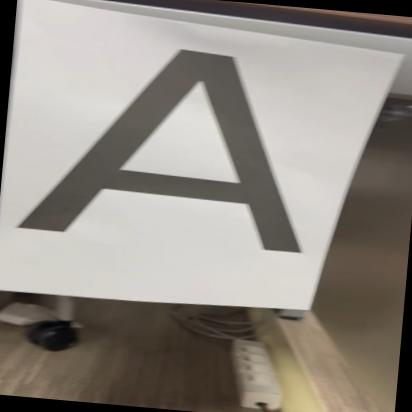seat: (16, 28, 323, 257)
